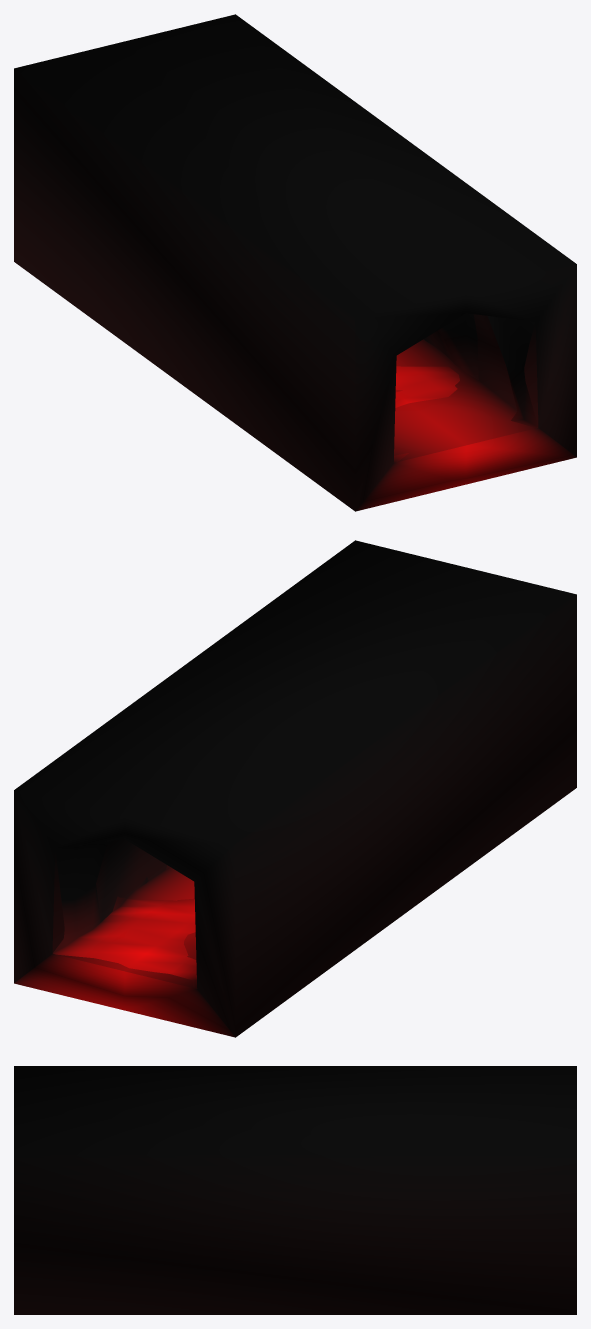
Rendered from JD_Cave_A_Tunnel_4x16_01.fbx.
3 views of the same model, one above another, from view 1: azimuth 30°, elevation 25°; view 2: azimuth 150°, elevation 25°; view 3: azimuth 270°, elevation 25° (orthographic). The views are drawn at different scales.
Visible parts, largest first — view 1: C_JD_Cave_A_Tunnel_4x16_01, JD_Cave_A_Tunnel_4x16_01; view 2: C_JD_Cave_A_Tunnel_4x16_01, JD_Cave_A_Tunnel_4x16_01; view 3: C_JD_Cave_A_Tunnel_4x16_01.
Part boxes in pixels (box(x1,y1,x2,y2)): C_JD_Cave_A_Tunnel_4x16_01: box(14, 14, 576, 511); JD_Cave_A_Tunnel_4x16_01: box(393, 313, 538, 462); C_JD_Cave_A_Tunnel_4x16_01: box(14, 540, 576, 1037); JD_Cave_A_Tunnel_4x16_01: box(53, 841, 197, 988); C_JD_Cave_A_Tunnel_4x16_01: box(14, 1066, 576, 1314).
Size of the model in its own units: 6 by 5 by 16.
